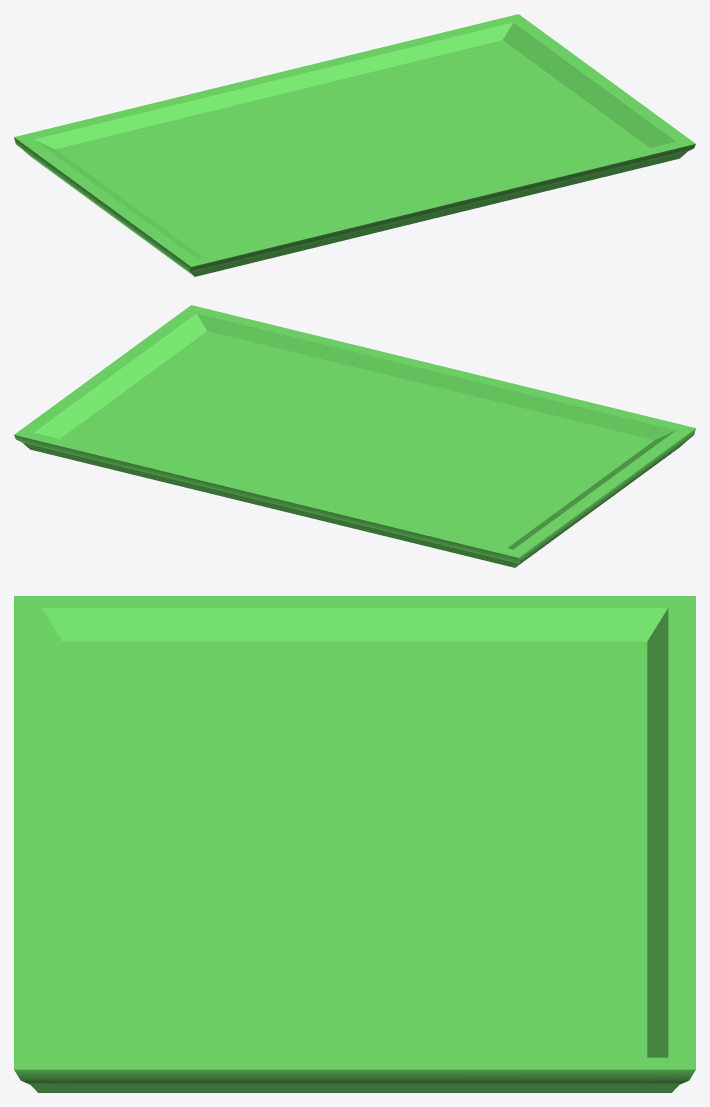
Rendered from Plastic_tray_UV.fbx.
The picture shows the model from 3 angles, top to bottom: view 1: azimuth 30°, elevation 25°; view 2: azimuth 150°, elevation 25°; view 3: azimuth 270°, elevation 25°; orthographic projection. The views are drawn at different scales.
Visible parts, largest first — view 1: plastic_tray6; view 2: plastic_tray6; view 3: plastic_tray6.
Part boxes in pixels (x1,y1,x2,y2): plastic_tray6: (14, 14, 695, 276); plastic_tray6: (14, 305, 695, 567); plastic_tray6: (14, 596, 695, 1092).
Bounding box in the file's own units: 73.4 × 2.36 × 44.67.
